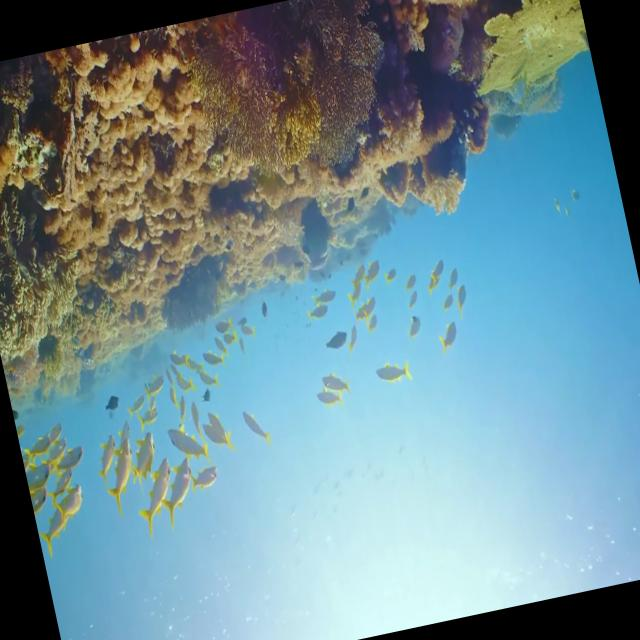fish: (127, 452, 186, 540), (154, 454, 202, 524), (164, 419, 213, 474), (45, 482, 91, 525), (238, 402, 272, 449), (372, 356, 416, 390), (434, 315, 465, 355), (319, 369, 355, 402)
